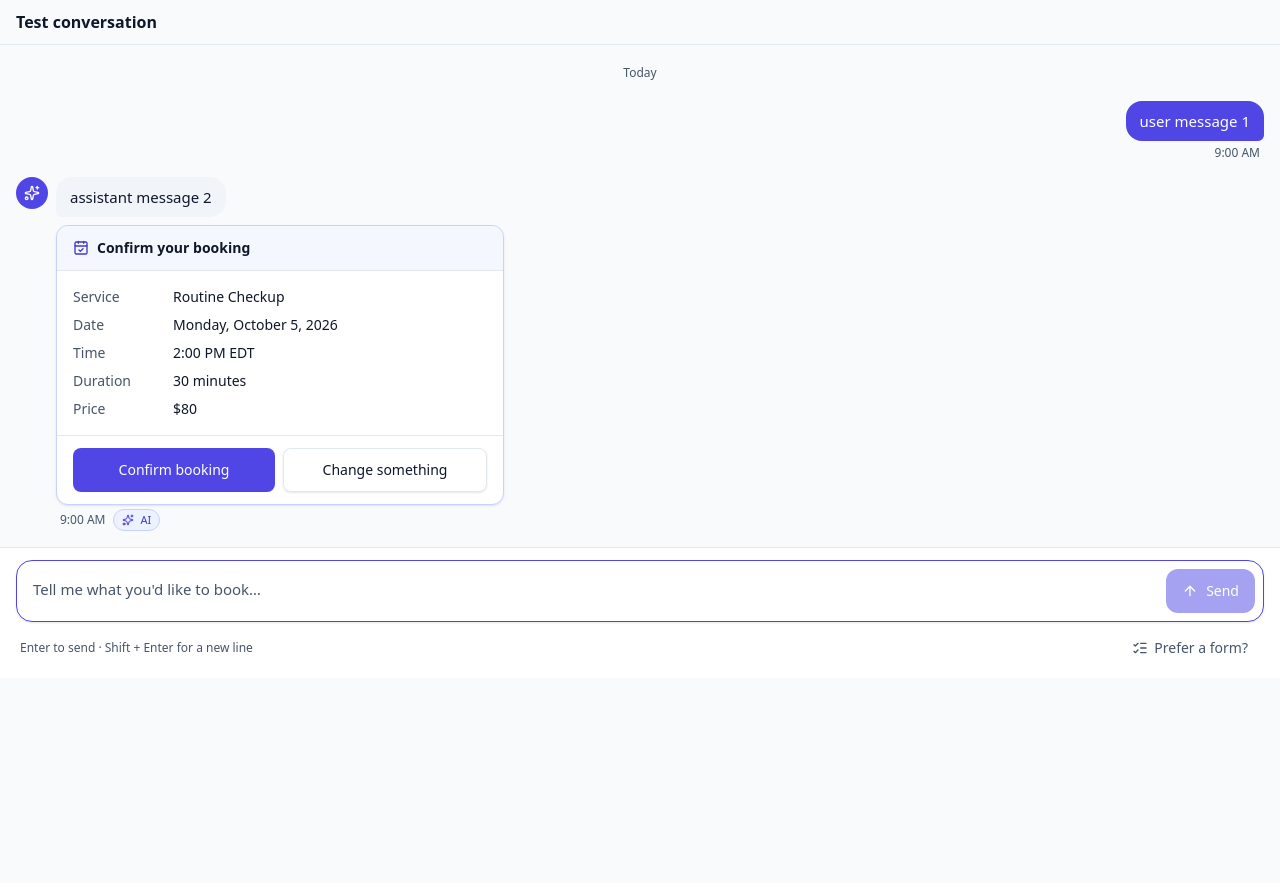
Scenario: ConfirmationCard › "Change something" opens the form, prefilled, instead of sending a message the engines cannot act on
Click the button "Change something": point(385, 470) [283, 448, 487, 492]
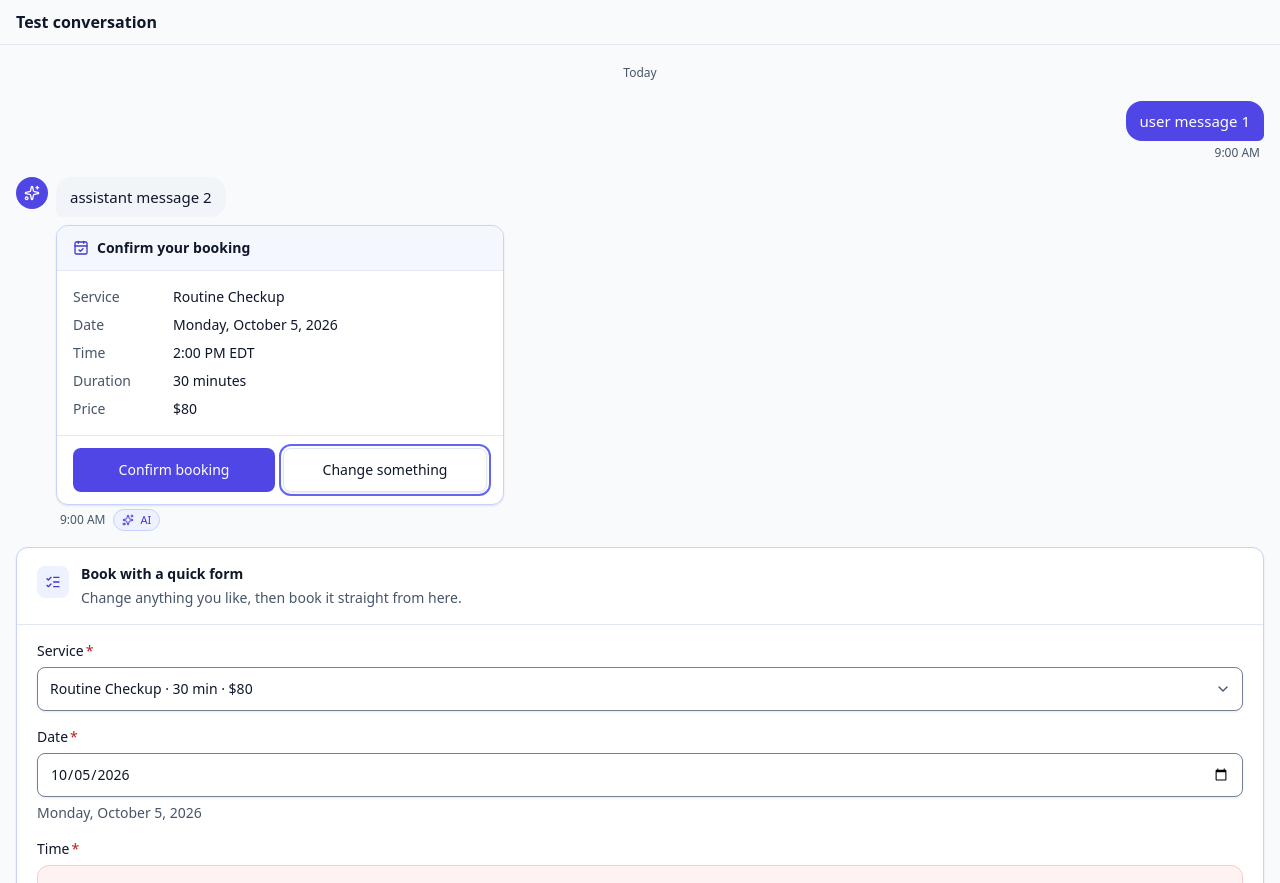
Result: the text "Change anything you like, then book it straight from here." is shown at [81, 588, 462, 608]
Result: the dropdown labelled "Service*" shows "Routine Checkup · 30 min · $80" at [37, 667, 1243, 711]
